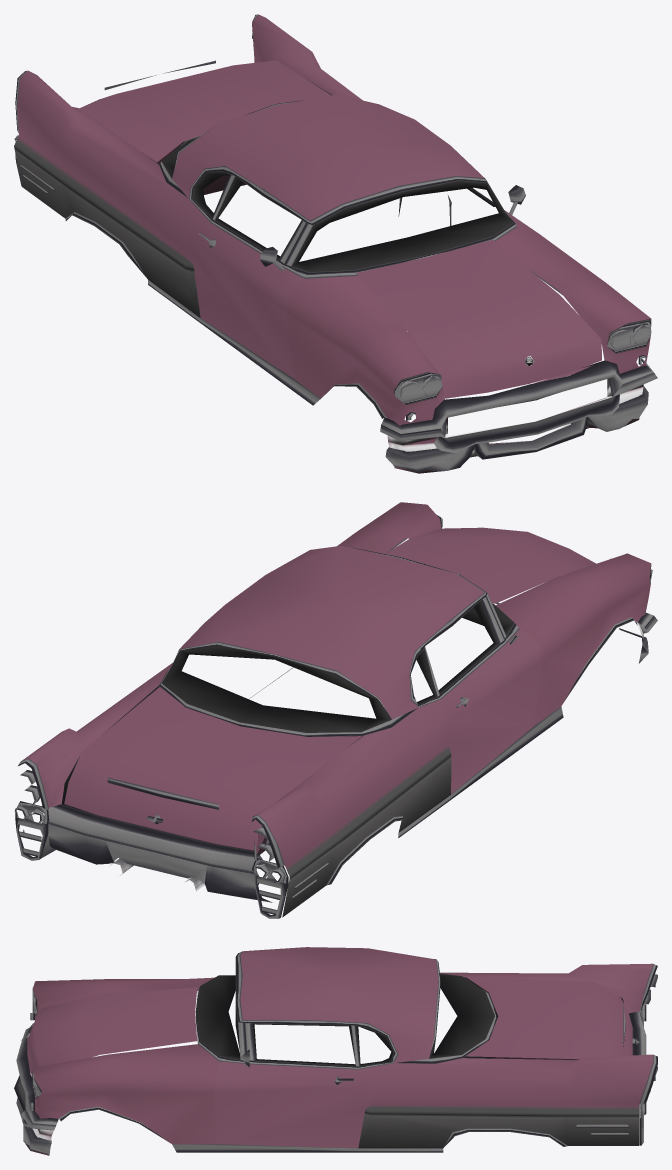
Rendered from car-MSCL_Car11.glb.
The picture shows the model from 3 angles, top to bottom: view 1: azimuth 30°, elevation 25°; view 2: azimuth 150°, elevation 25°; view 3: azimuth 270°, elevation 25°; orthographic projection. The views are drawn at different scales.
Parts seen in each view (by area): view 1: MSCL_Car11; view 2: MSCL_Car11; view 3: MSCL_Car11.
Part boxes in pixels (x1,y1,x2,y2): MSCL_Car11: (14,14,657,473); MSCL_Car11: (14,502,657,918); MSCL_Car11: (14,947,657,1155).
Size of the model in its own units: 2 by 1.14 by 5.
Materials: 5 (5 with a texture image).
